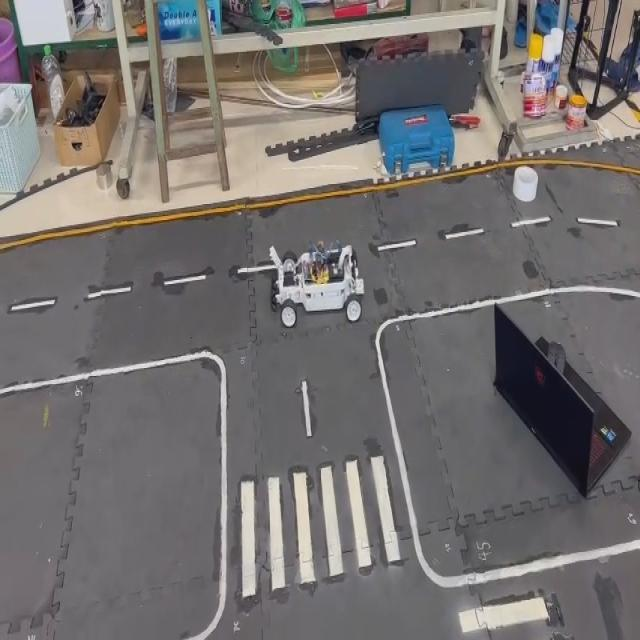SiCo-CAR: (268, 239, 364, 328)
